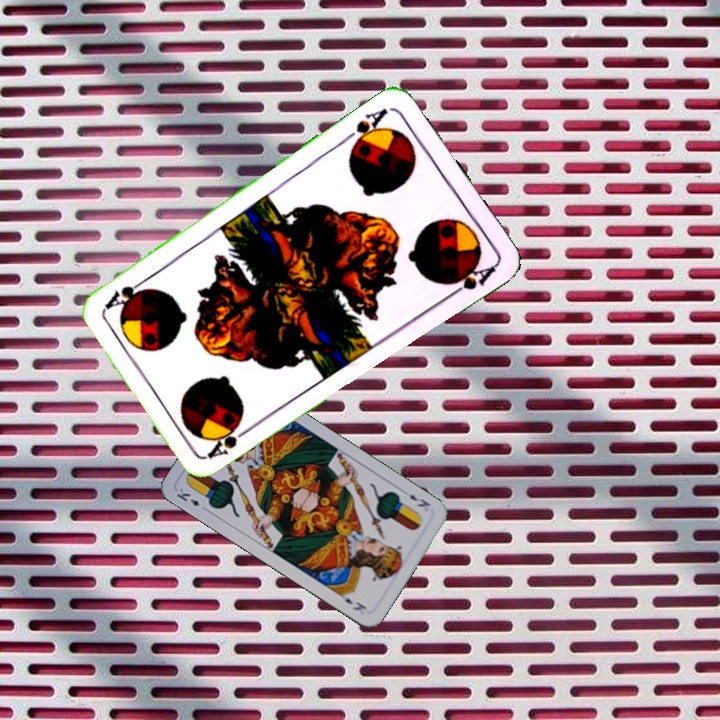EK: (172, 484, 210, 514), (405, 490, 433, 510)
SA: (340, 104, 391, 152), (203, 420, 256, 462)
